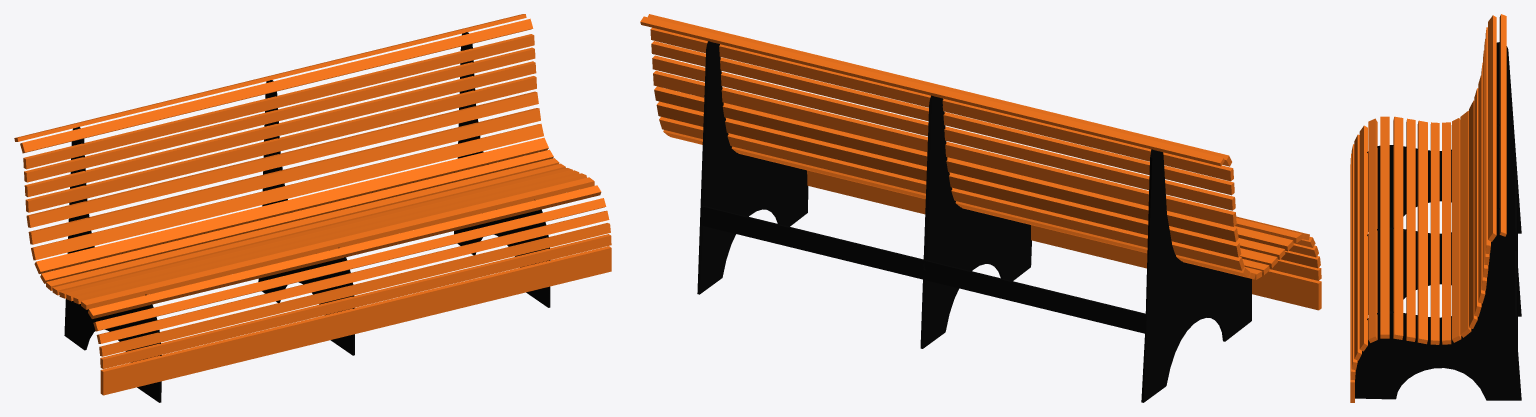
The model's file is skamya.glb.
The picture shows the model from 3 angles, left to right: view 1: azimuth 30°, elevation 25°; view 2: azimuth 150°, elevation 25°; view 3: azimuth 270°, elevation 25°; orthographic projection. The views are drawn at different scales.
Parts seen in each view (by area): view 1: Skamya; view 2: Skamya; view 3: Skamya.
Part boxes in pixels (x1,y1,x2,y2): Skamya: [14, 14, 611, 402]; Skamya: [640, 14, 1321, 402]; Skamya: [1350, 14, 1521, 402].
Bounding box in the file's own units: 2.6 × 1.08 × 0.8639.
